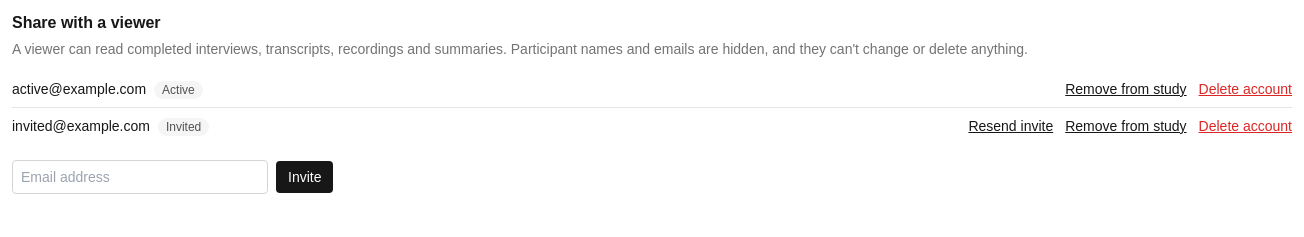
Test: SharePanel › shows the server's message when an invite is refused
Check: the text "active@example.com" is shown, box [12, 81, 146, 97]
Type "boss@example.com" into the field named "Email address to invite" at (140, 177), box [12, 160, 268, 194]
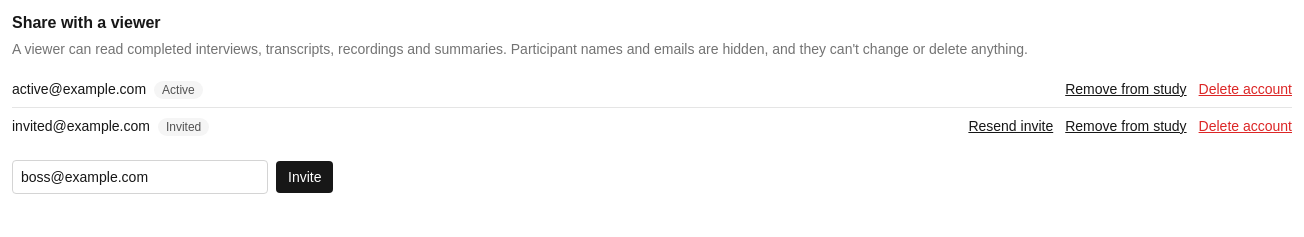
Click the button "Invite" at (305, 177), box [276, 161, 334, 193]
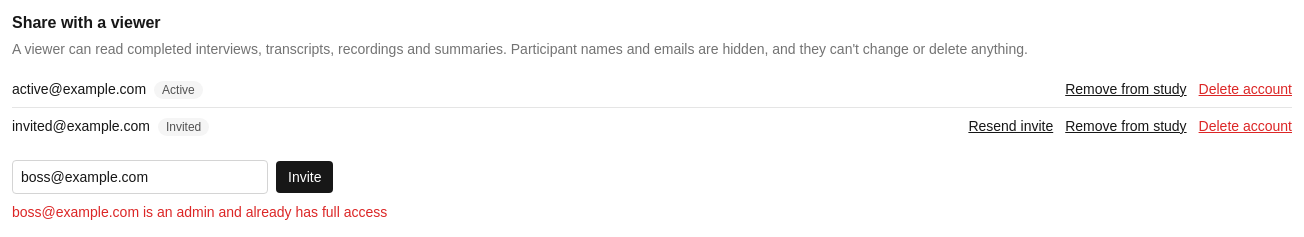
Check: the message shows "is an admin", box [12, 204, 387, 220]
